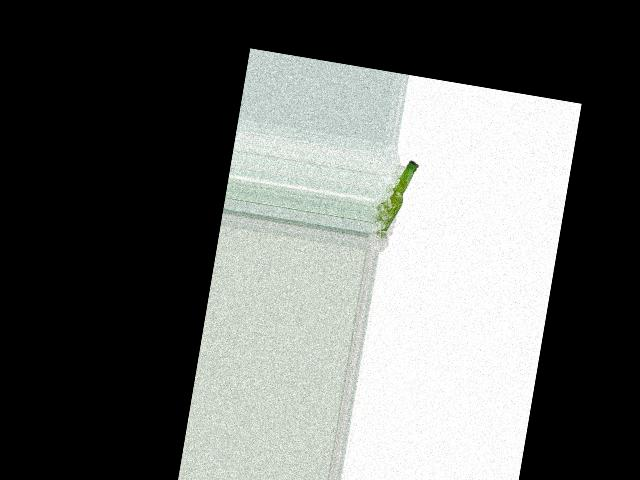beer: (378, 156, 418, 240)
